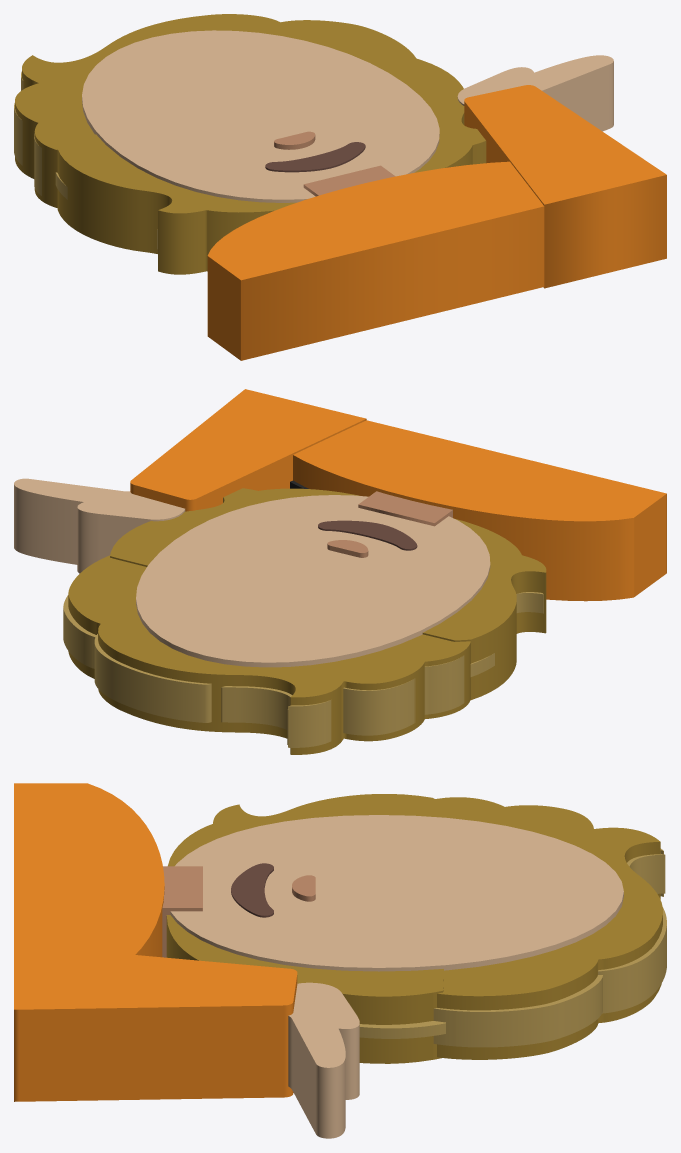
Rendered from emoji_u1f481_1f3fc.glb.
3 renders of one model, top to bottom at view 1: azimuth 30°, elevation 25°; view 2: azimuth 150°, elevation 25°; view 3: azimuth 270°, elevation 25°, orthographic. The views are drawn at different scales.
Visible parts, largest first — view 1: emoji_u1f481_1f3fc; view 2: emoji_u1f481_1f3fc; view 3: emoji_u1f481_1f3fc.
Part boxes in pixels (box(x1,y1,x2,y2)): emoji_u1f481_1f3fc: box(14, 14, 666, 360); emoji_u1f481_1f3fc: box(14, 389, 666, 754); emoji_u1f481_1f3fc: box(14, 783, 666, 1138).
Size of the model in its own units: 0.0334 by 0.0052 by 0.0334.
